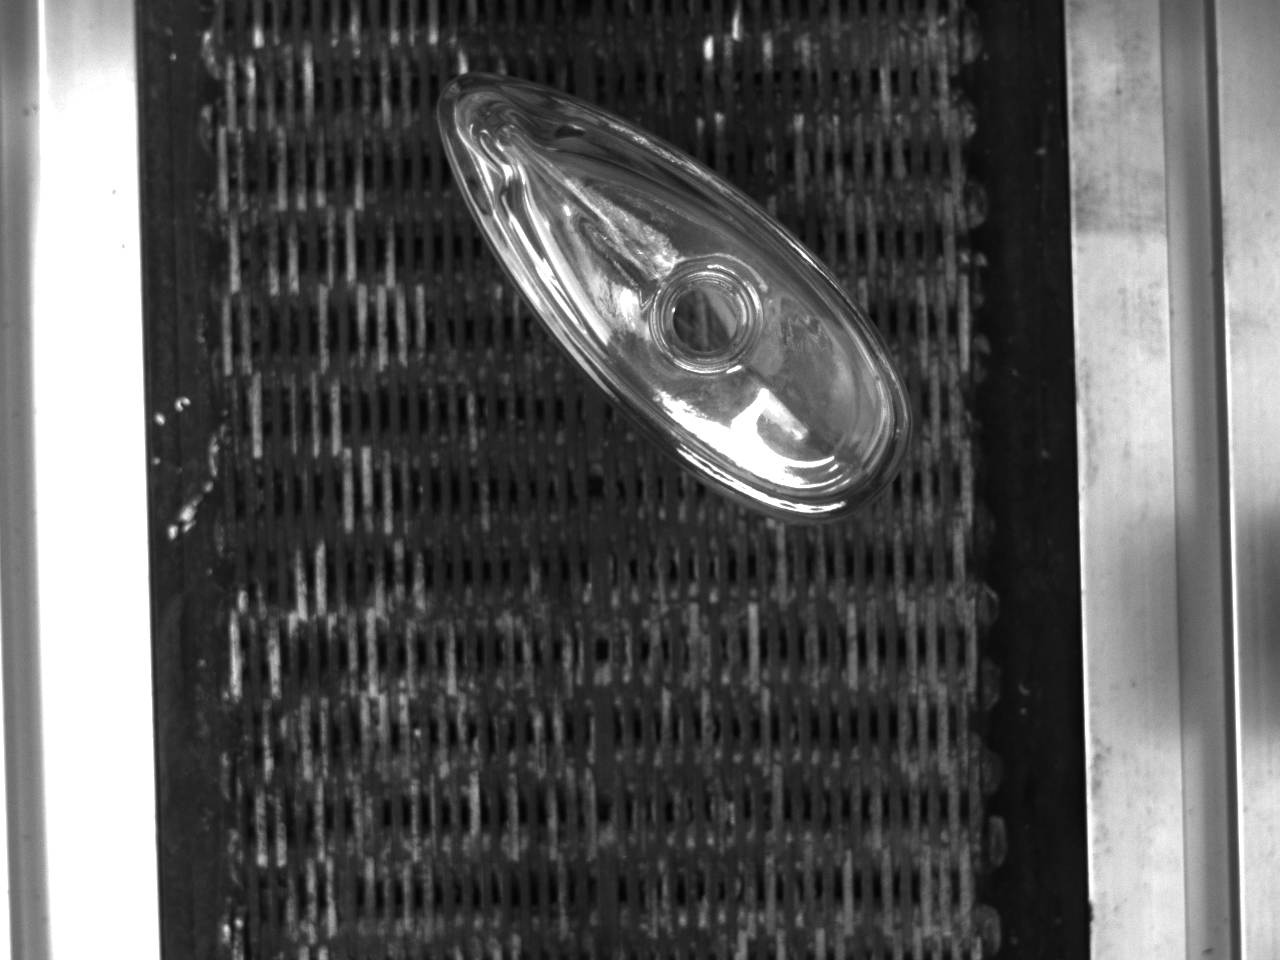bottleneck: (650, 266, 765, 373)
